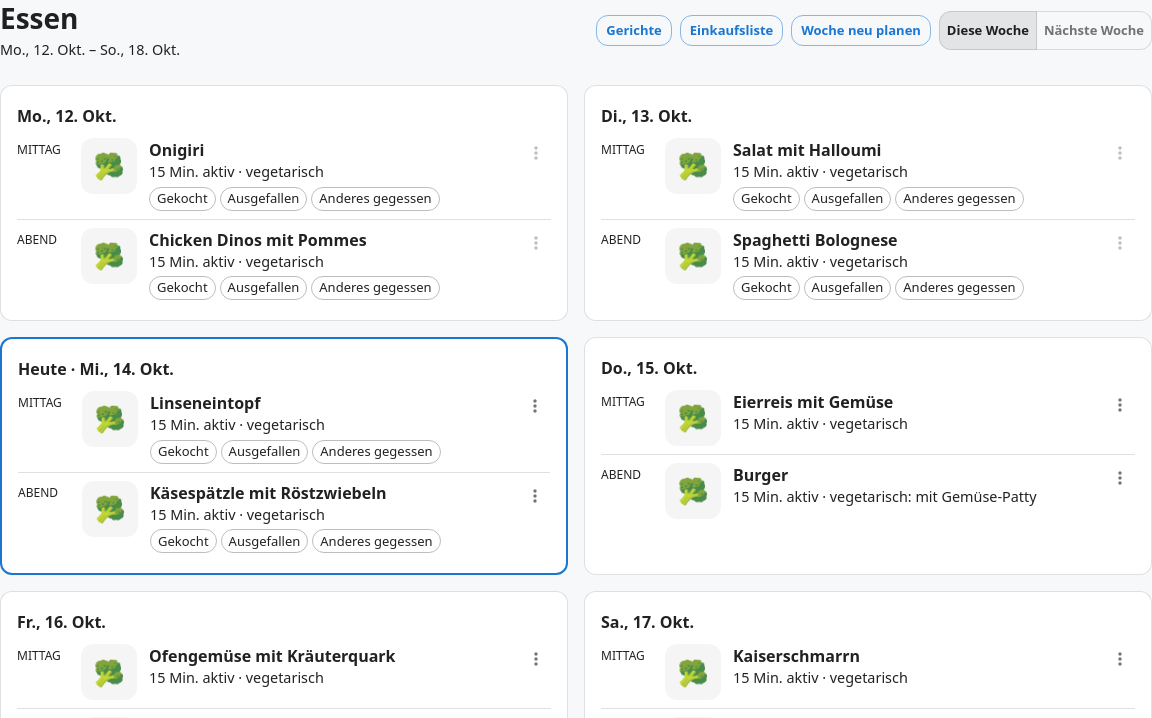
Scenario: MealPlanPage (FOOD-009) › swaps two meals and locks a meal (FOOD-022)
Click the button named "Aktionen: Mi., 14. Okt. Abend" at (535, 496), box [520, 481, 550, 511]
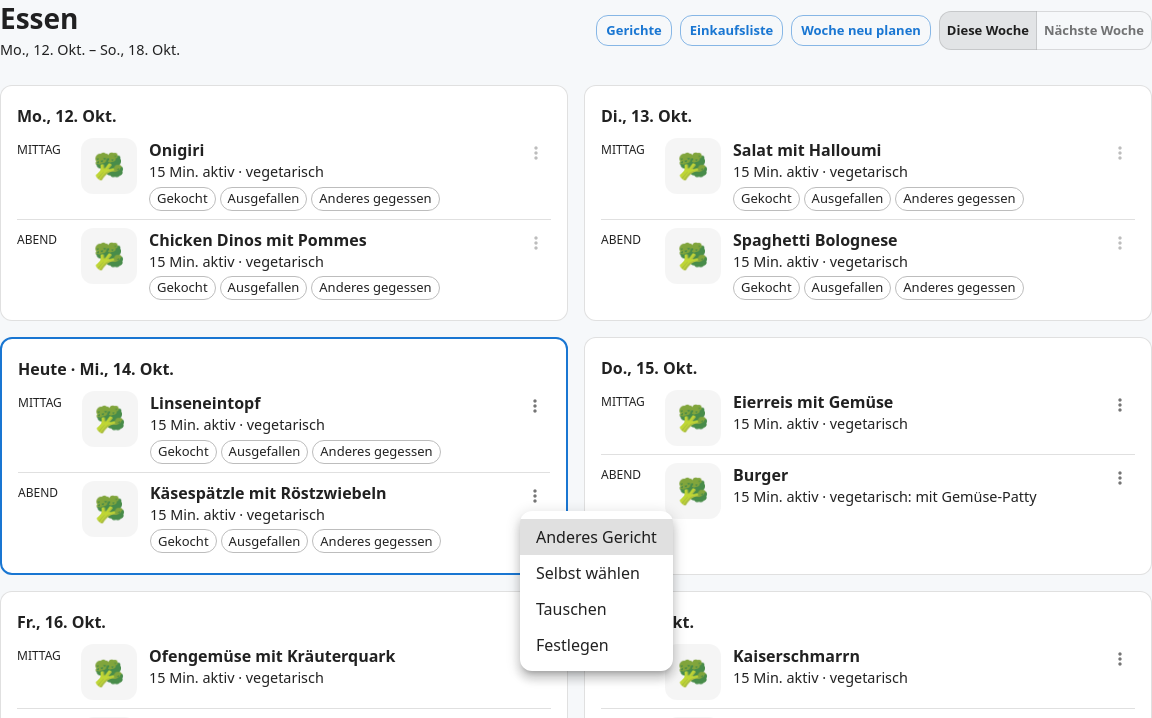
Click the menu item "Tauschen" at (571, 609), box [536, 598, 607, 620]
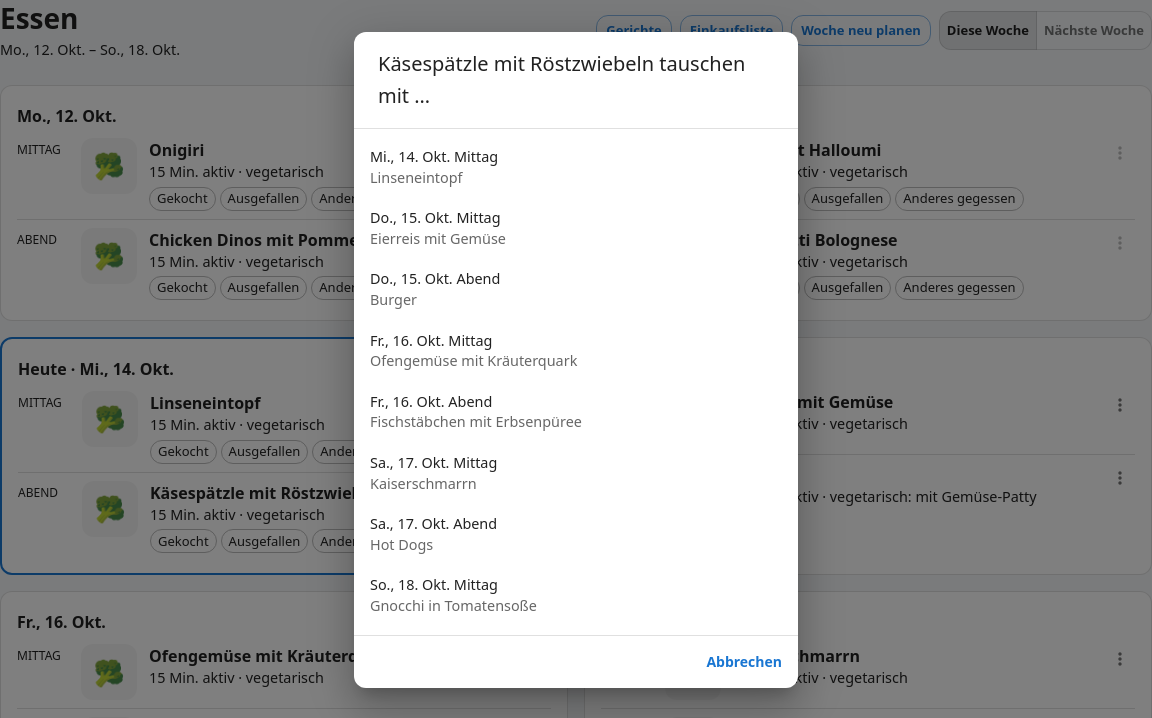
Expected: the button "Mi., 14. Okt. Abend" is not shown
Click the button "Fr., 16. Okt. Abend Fischstäbchen mit Erbsenpüree" at (476, 412), box [370, 392, 582, 431]
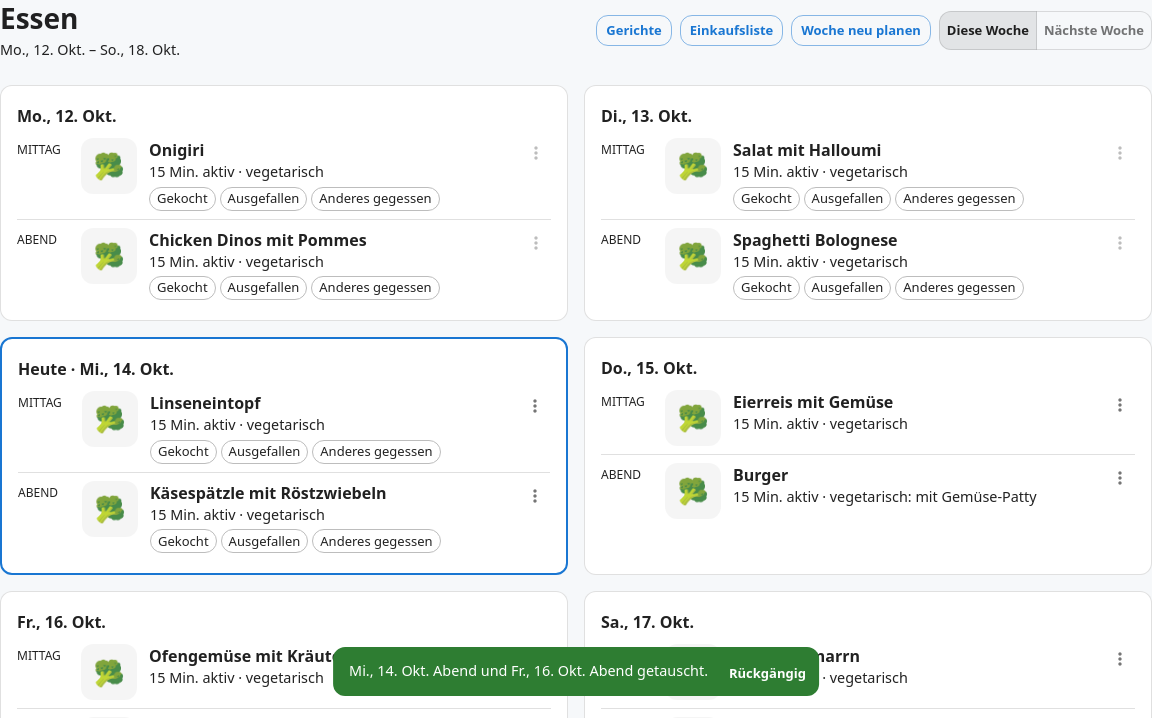
Now the text "Mi., 14. Okt. Abend und Fr., 16. Okt. Abend getauscht." is shown, box [349, 661, 708, 680]
Click the button named "Aktionen: Do., 15. Okt. Abend" at (1120, 478), box [1105, 463, 1135, 493]
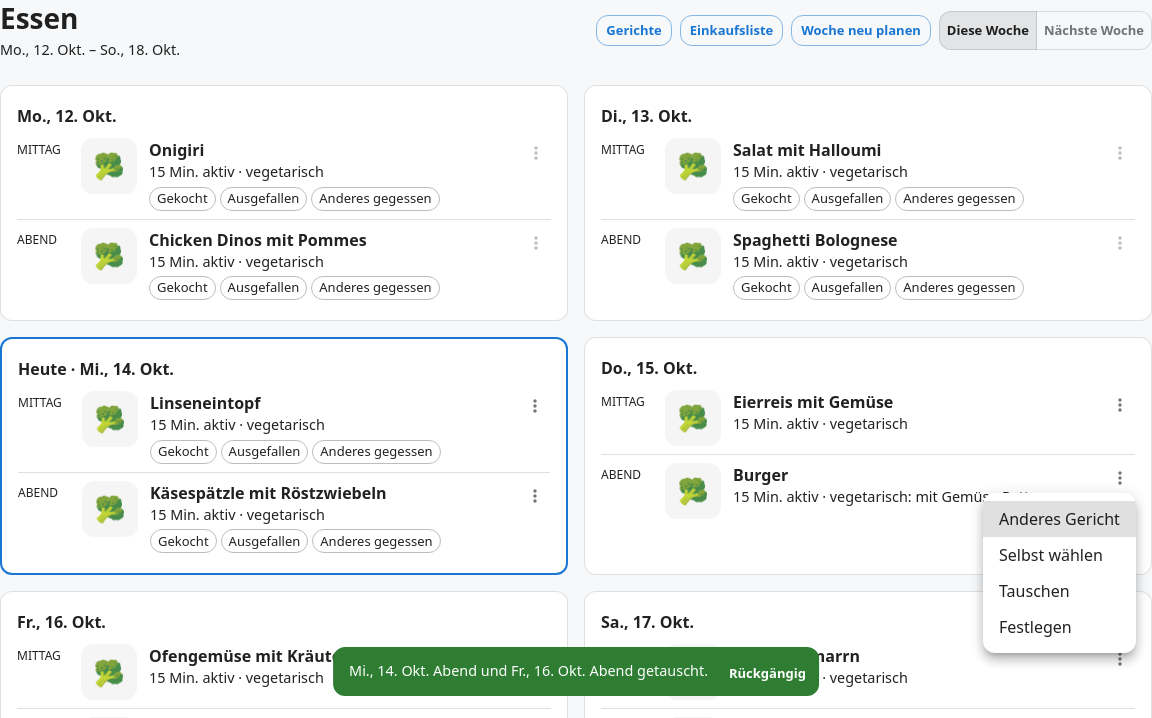
Click the menu item "Festlegen" at (1035, 627), box [999, 616, 1072, 638]
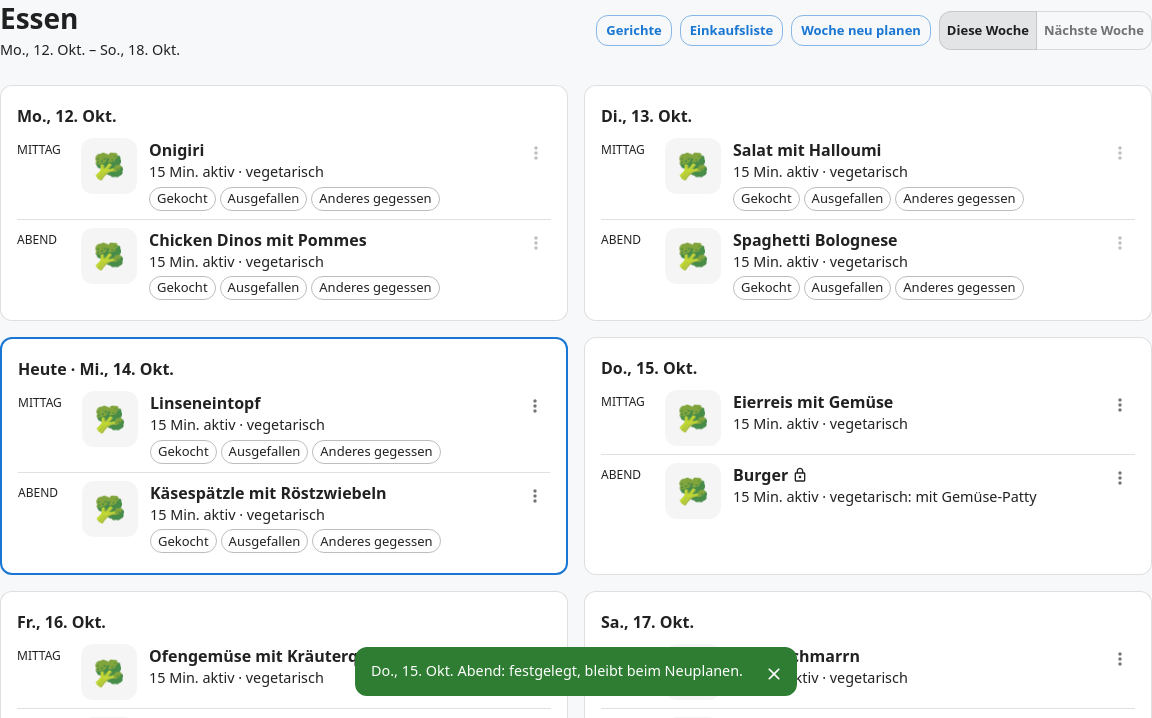
Now the text "Do., 15. Okt. Abend: festgelegt, bleibt beim Neuplanen." is shown, box [371, 661, 743, 680]
Now the number of pictures named "Festgelegt" is 1, box [792, 467, 808, 483]
Click the button named "Aktionen: Do., 15. Okt. Abend" at (1120, 478), box [1105, 463, 1135, 493]
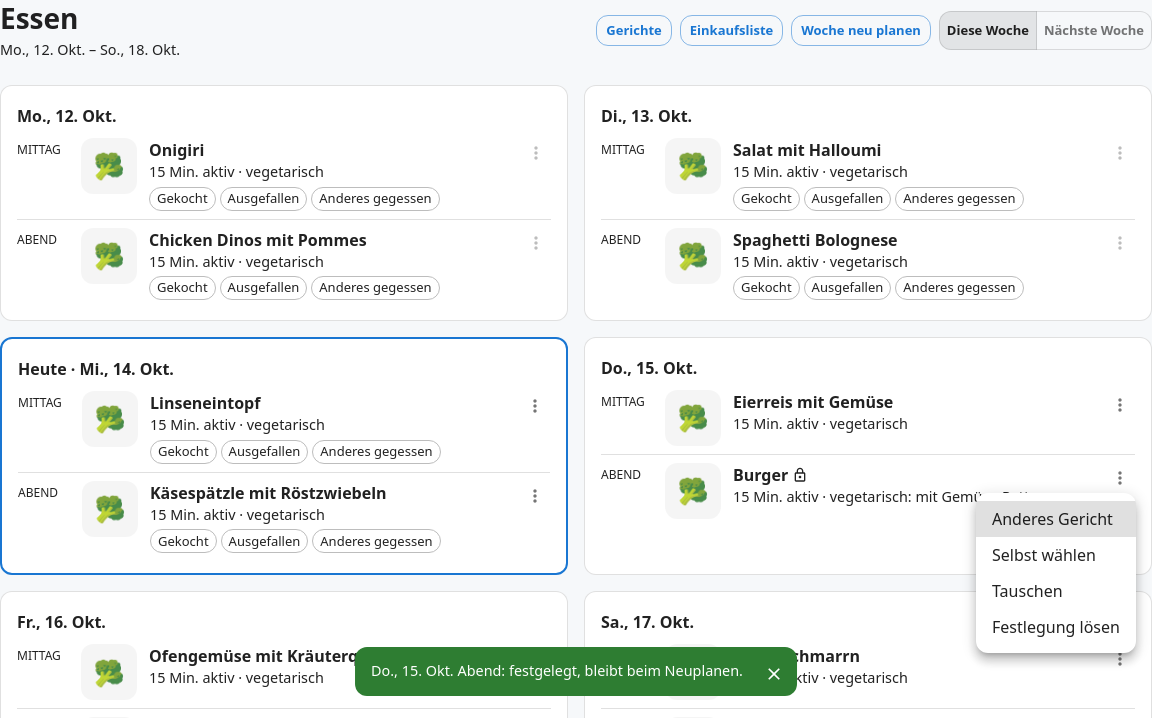
Now the menu item "Festlegung lösen" is shown, box [992, 616, 1120, 638]
